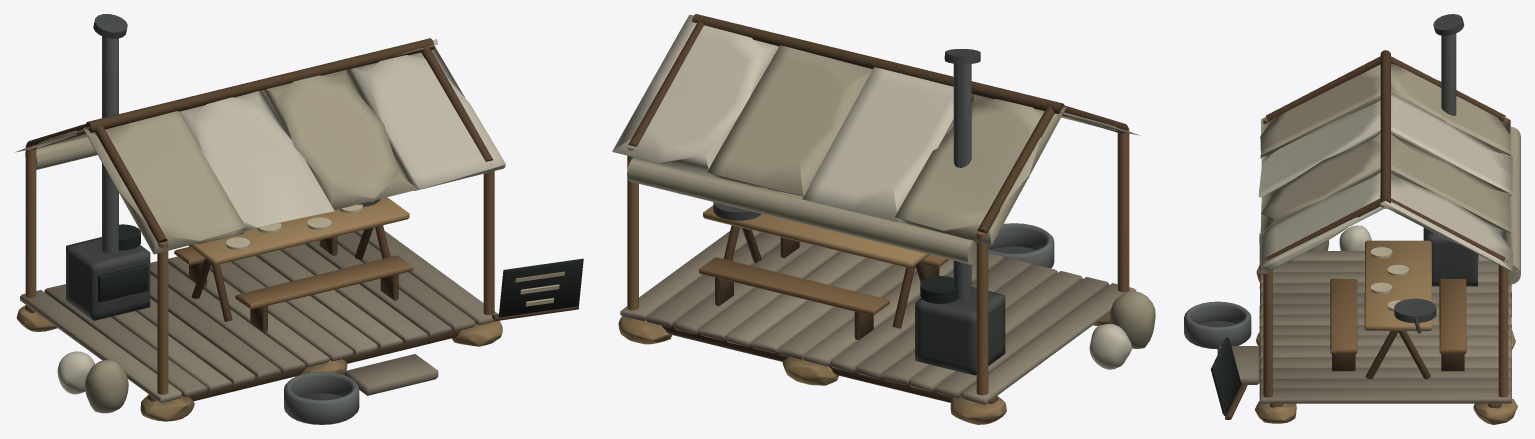
The model's file is crew_cookshack_a.glb.
3 views of the same model, side by side, from view 1: azimuth 30°, elevation 25°; view 2: azimuth 150°, elevation 25°; view 3: azimuth 270°, elevation 25° (orthographic). The views are drawn at different scales.
Visible parts, largest first — view 1: Surface; view 2: Surface; view 3: Surface.
Boxes of the visible parts, x1,y1,x2,y2 form: Surface: (15, 14, 583, 424); Surface: (612, 14, 1155, 424); Surface: (1184, 14, 1520, 424).
Size of the model in its own units: 5.49 by 3.75 by 4.01.
